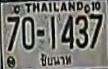0: (21, 16, 34, 49)
1: (50, 15, 55, 48)
3: (75, 14, 87, 48)
4: (61, 14, 73, 48)
7: (89, 13, 102, 48), (7, 16, 19, 50)
CNT: (37, 51, 75, 66)
